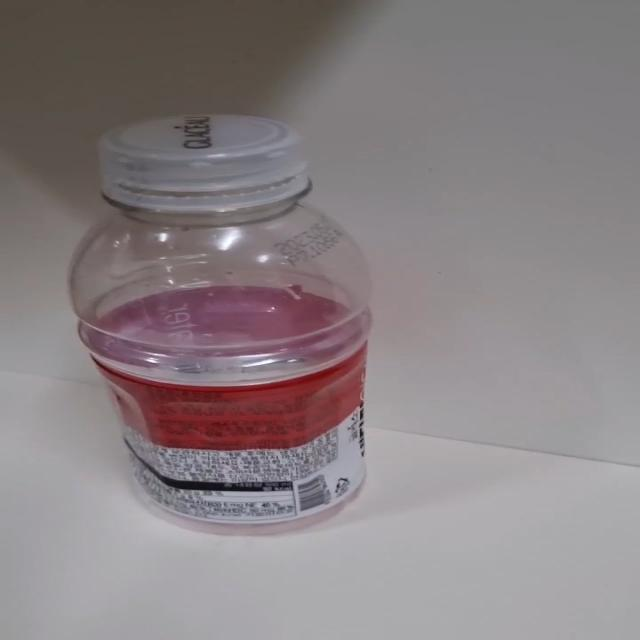Plastic: (66, 114, 374, 538)
